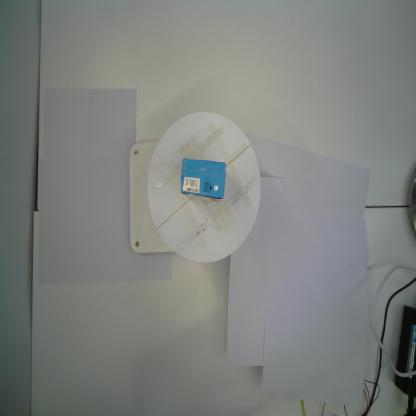Milk: (180, 158, 226, 199)
